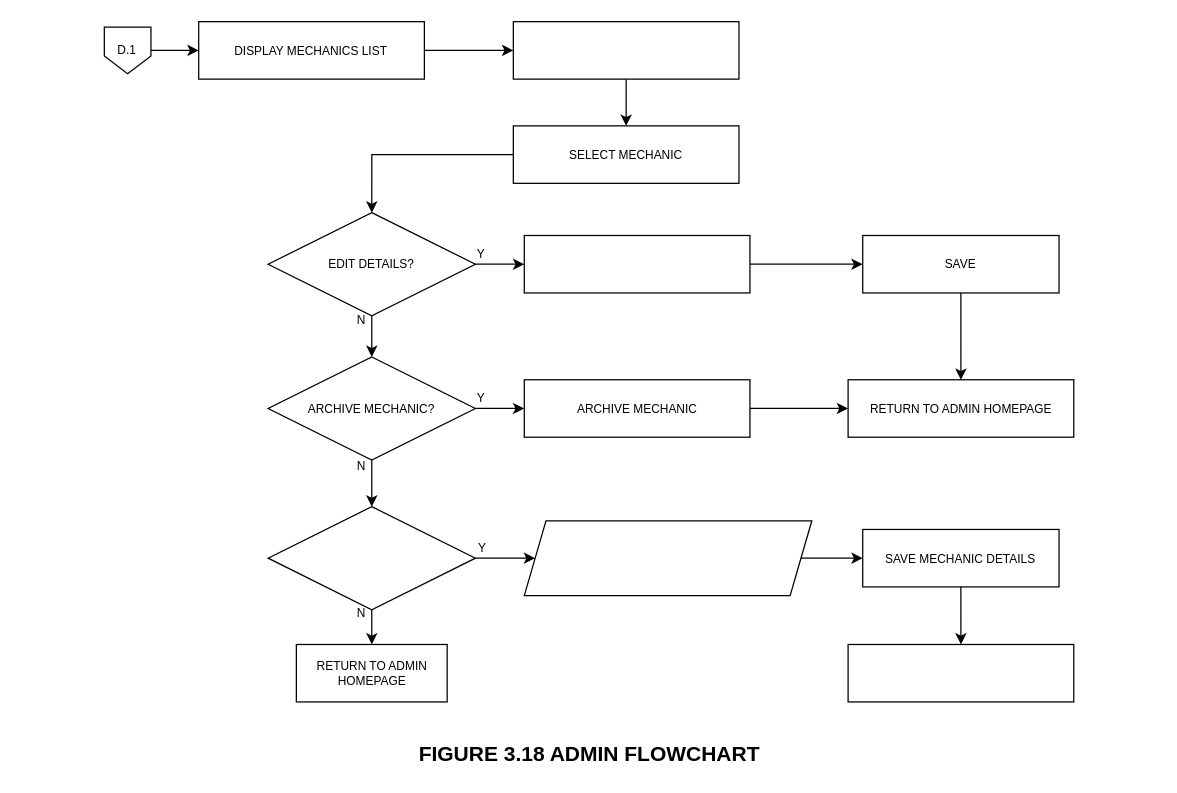
Image size: 1177x793. Some labels were removed from this diagram. The centre of each missing label's shape, as x and y in pixels:
ADD MECHANIC?: point (371, 557)
EDIT MECHANIC DETAILS: point (636, 263)
FILTER MECHANICS (NAME, STATUS): point (625, 49)
INPUT MECHANIC DETAILS (NAME, ROLE, MOBILE PHONE): point (667, 557)
RETURN TO MECHANIC LIST: point (960, 672)
